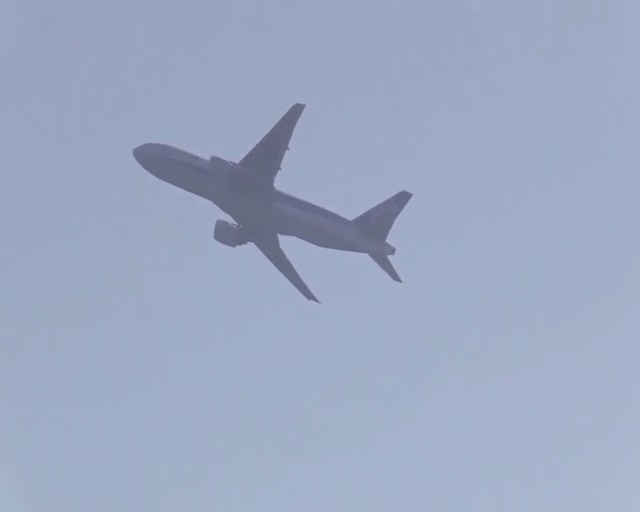AIRPLANE: (129, 99, 414, 305)
